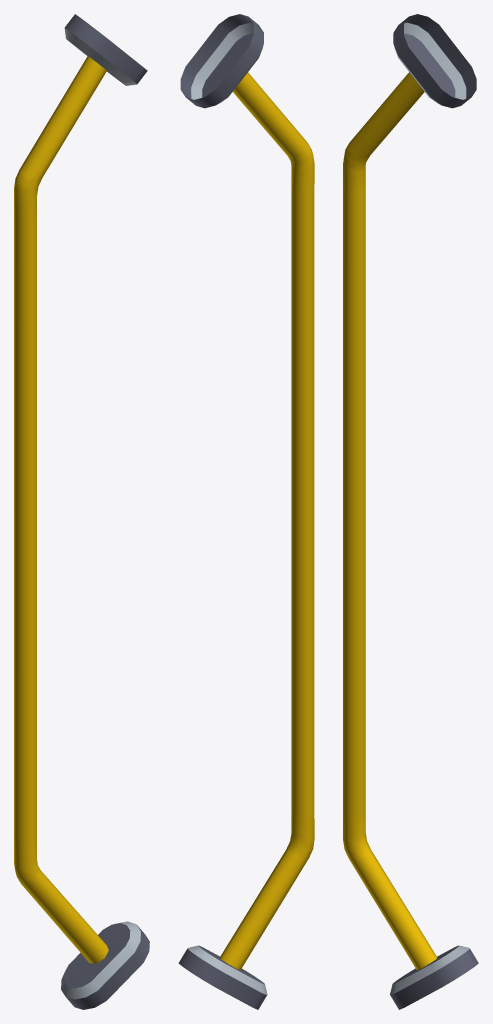
The model's file is Wall_Fence_02.FBX.
3 views of the same model, side by side, from view 1: azimuth 30°, elevation 25°; view 2: azimuth 210°, elevation 25°; view 3: azimuth 330°, elevation 25° (orthographic).
Visible parts, largest first — view 1: Wall_Fence_02; view 2: Wall_Fence_02; view 3: Wall_Fence_02.
Part boxes in pixels (x1,y1,x2,y2): Wall_Fence_02: (14, 14, 149, 1009); Wall_Fence_02: (178, 14, 314, 1009); Wall_Fence_02: (343, 14, 478, 1009).
Bounding box in the file's own units: 0.4449 × 3.24 × 0.1814.
